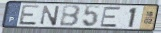1: (127, 7, 138, 29)
5: (82, 5, 101, 28)
B: (58, 5, 82, 28)
E: (17, 5, 41, 27), (99, 6, 122, 28)
N: (39, 5, 61, 27)
